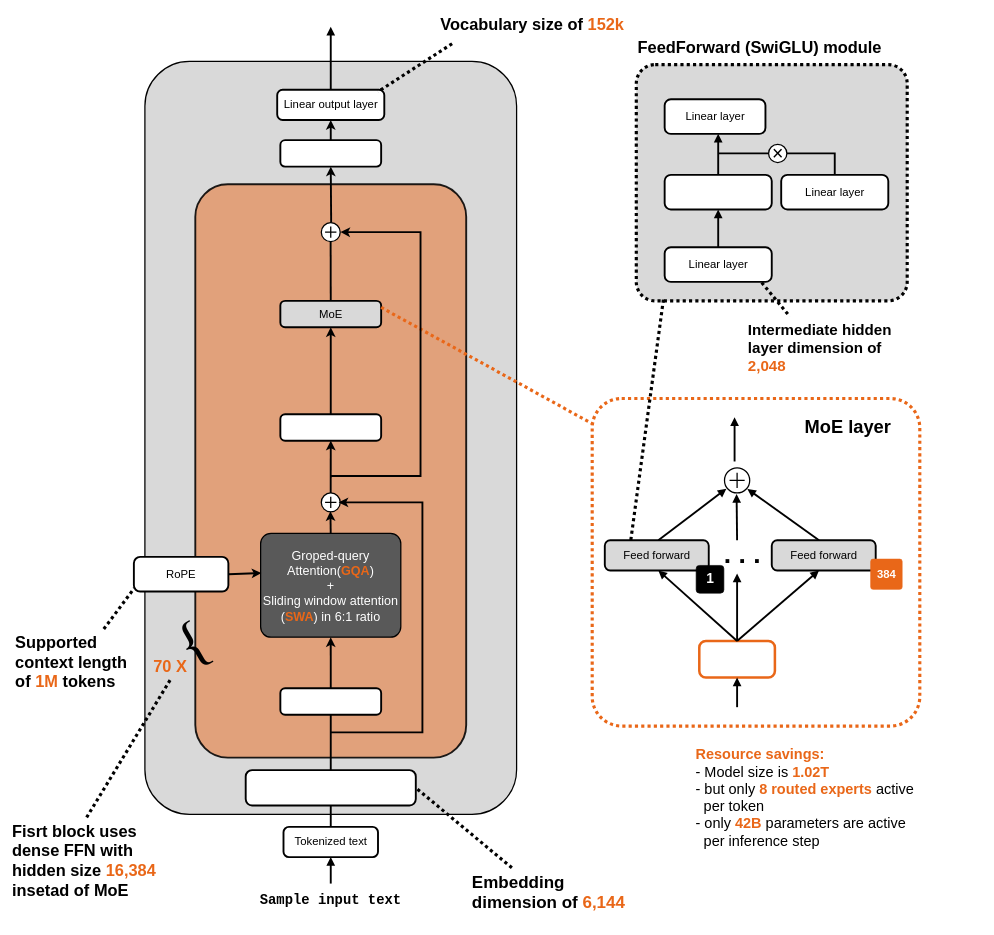
This 994x935 diagram has some shape labels left out. The shapes that lost their labels are listed below. From the top down, each one's centre as x and y in pixels, then its label:
At pixel 330 153: "Final RMSNorm".
At pixel 717 192: "SiLU activation".
At pixel 330 427: "RMSNorm 2".
At pixel 737 659: "Router".
At pixel 330 701: "RMSNorm 1".
At pixel 330 787: "Token embedding layer".
